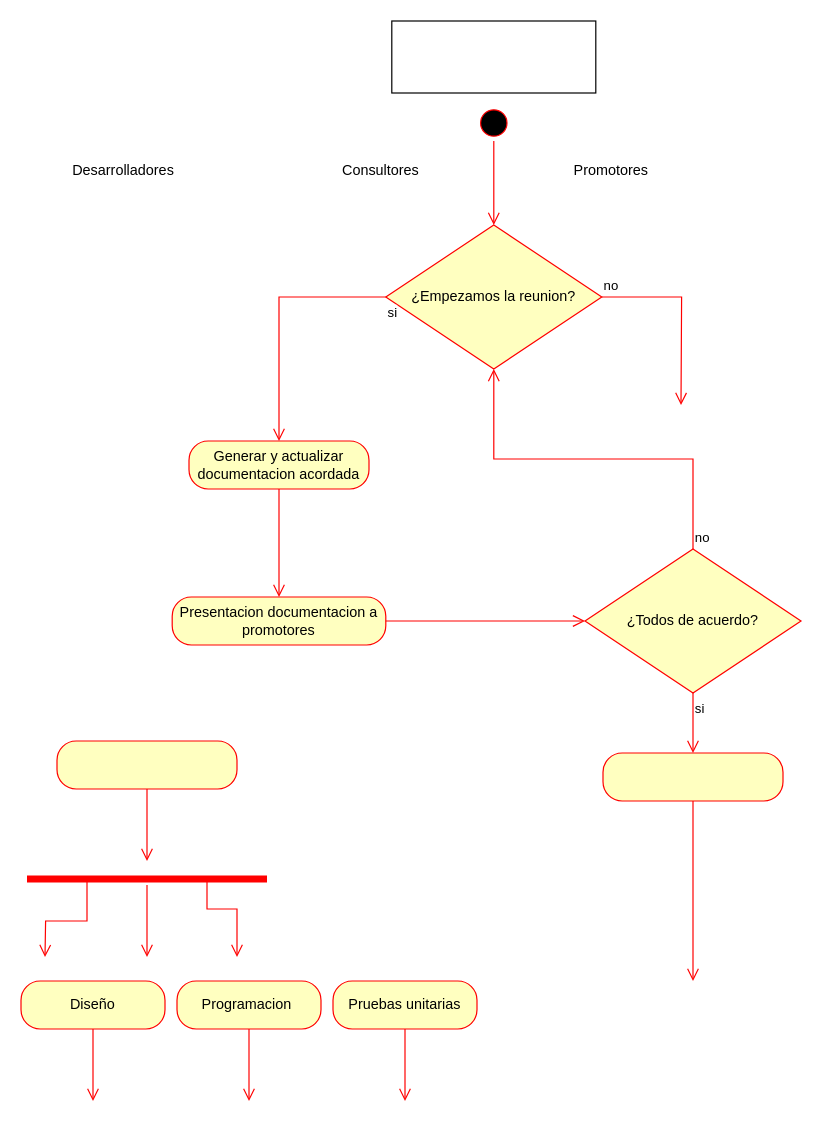
The diagram is 822 pixels wide and 1134 high, and some of its shapes have lost their labels. Here are the shapes that lost their labels. From the top down, the box of each, then its label:
(391, 20, 596, 93): DESARROLLO SOFTWARE (ACME)
(56, 740, 237, 789): Estudio documentacion
(602, 752, 783, 801): Firman documentacion
